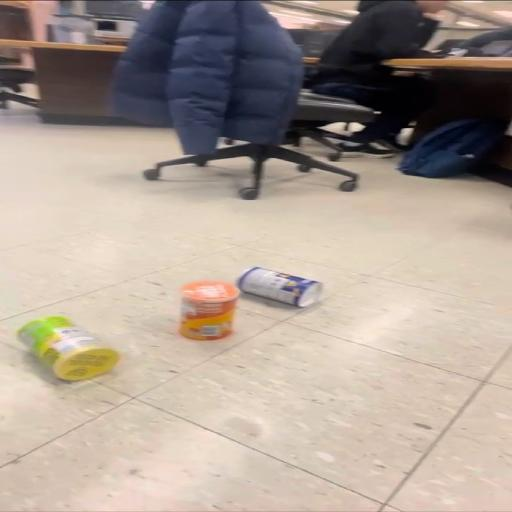pringle can: (18, 316, 119, 380), (237, 267, 323, 307), (180, 282, 239, 340)
